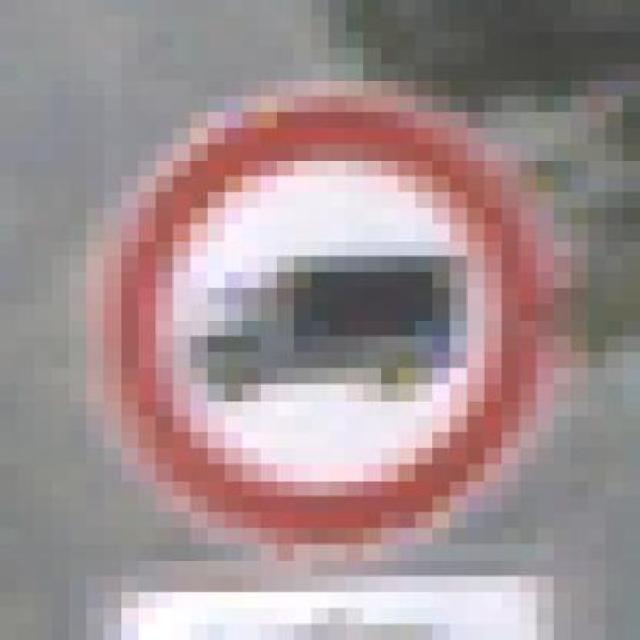Truck traffic is prohibited: (82, 41, 583, 554)
